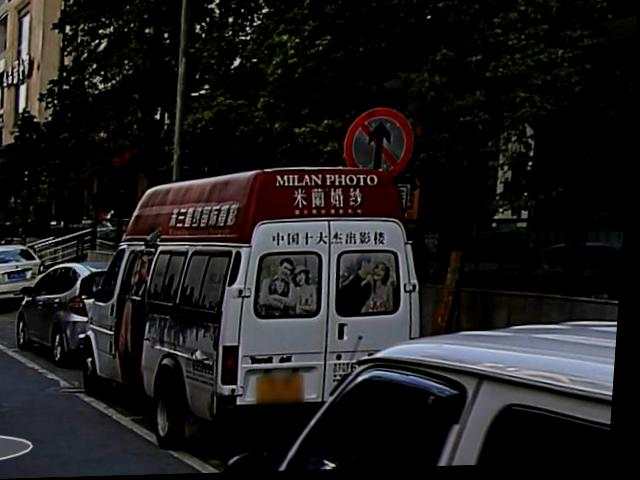not_go_straight: (343, 104, 417, 186)
